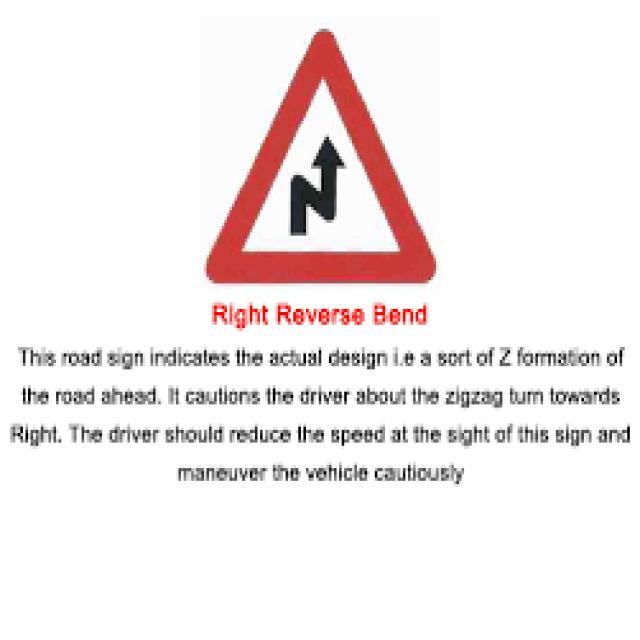right reverse bend: (205, 24, 439, 289)
